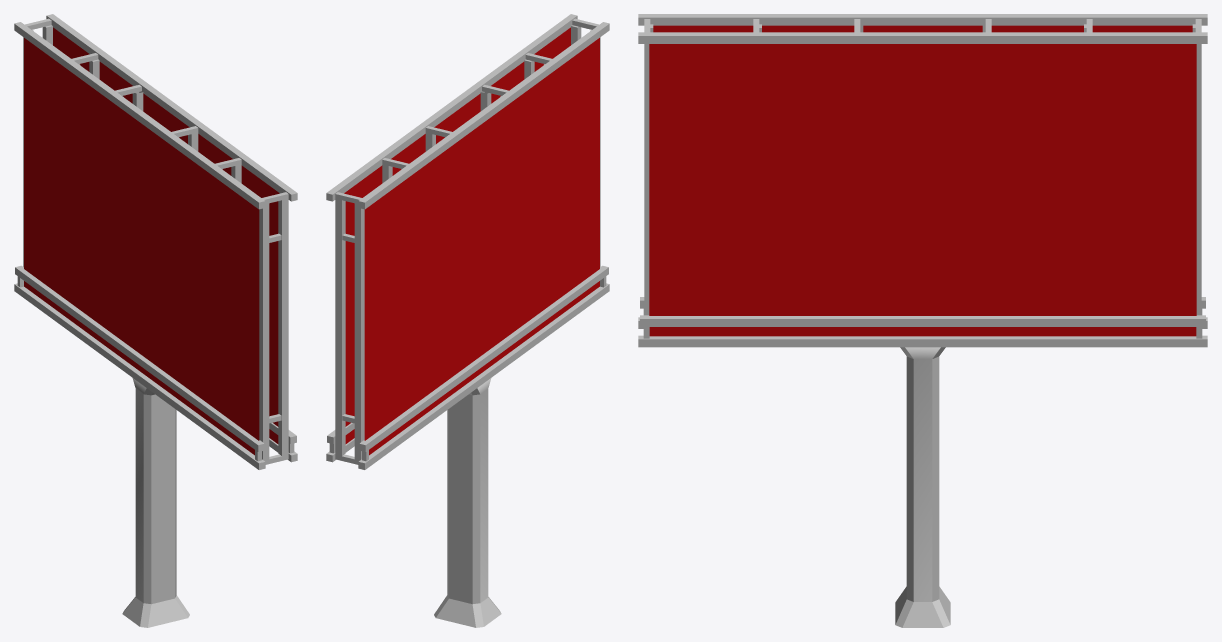
File: BillBoard2.fbx
3 renders of one model, left to right at view 1: azimuth 30°, elevation 25°; view 2: azimuth 150°, elevation 25°; view 3: azimuth 270°, elevation 25°, orthographic. The views are drawn at different scales.
Parts seen in each view (by area): view 1: BillBoard2 (×2); view 2: BillBoard2 (×2); view 3: BillBoard2 (×2).
Boxes of the visible parts, x1,y1,x2,y2 form: BillBoard2 (×2): [14, 14, 297, 627]; BillBoard2 (×2): [326, 14, 609, 627]; BillBoard2 (×2): [638, 14, 1207, 627].
Size of the model in its own units: 73.61 by 709 by 622.
